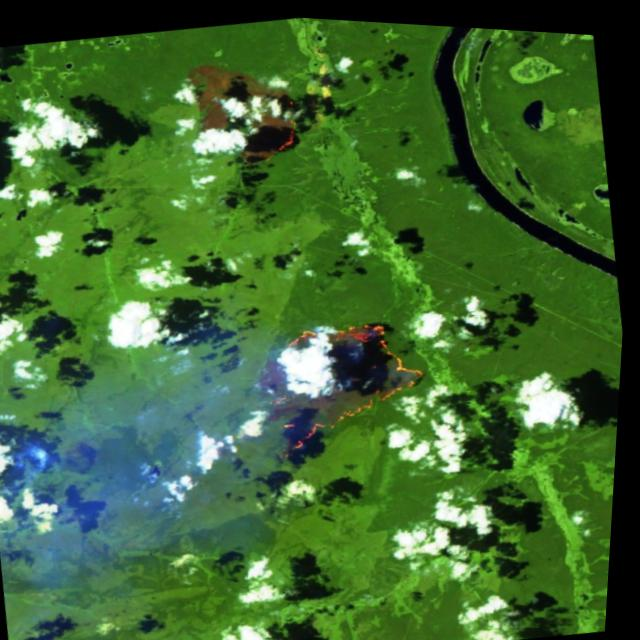fire: (272, 301, 445, 454), (263, 91, 311, 154)
